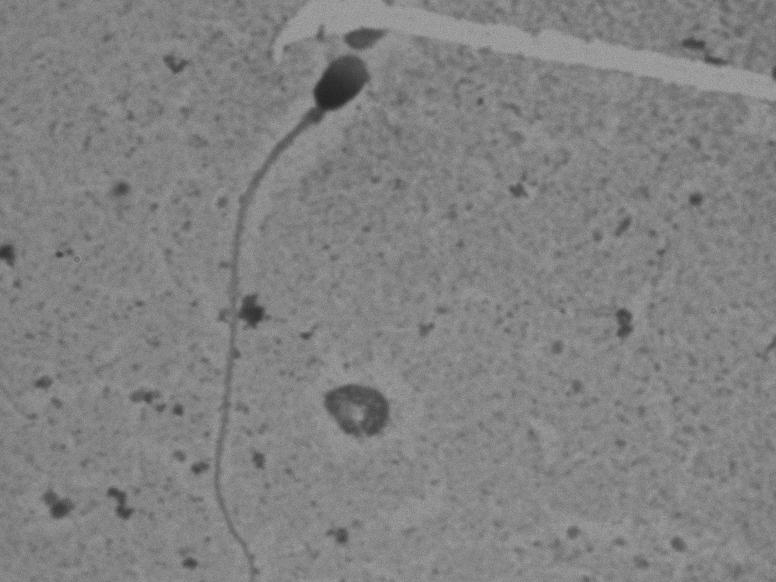Normal: (191, 48, 392, 571)
